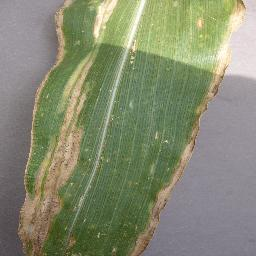Corn_Blight: (17, 118, 86, 255), (30, 0, 71, 115), (212, 0, 248, 91), (69, 45, 99, 118), (84, 0, 120, 44), (129, 221, 164, 255), (178, 112, 207, 144), (106, 95, 137, 124), (170, 145, 193, 177), (95, 230, 122, 253), (156, 178, 184, 200), (87, 149, 117, 169), (198, 90, 220, 114), (127, 35, 142, 70), (150, 201, 170, 221), (195, 10, 206, 37), (149, 160, 163, 174), (152, 129, 163, 143)
